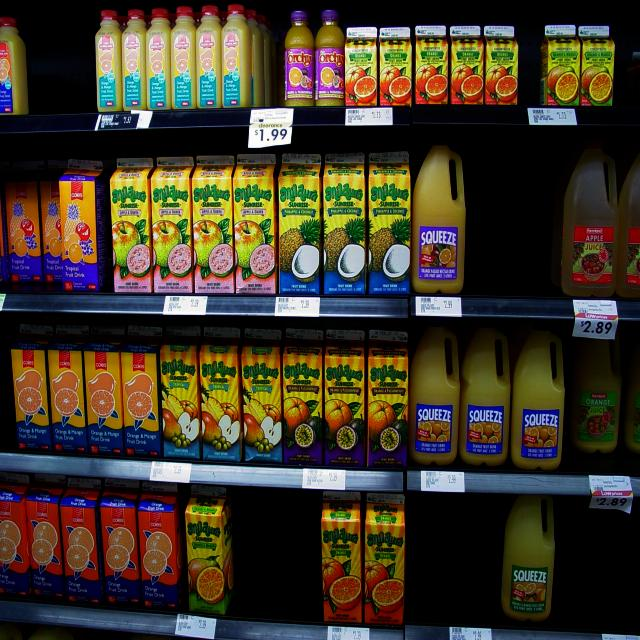empty_space: (474, 132, 550, 284), (414, 502, 494, 617), (238, 499, 314, 617), (567, 515, 637, 629), (33, 20, 93, 112), (521, 28, 544, 107), (620, 25, 636, 101)
